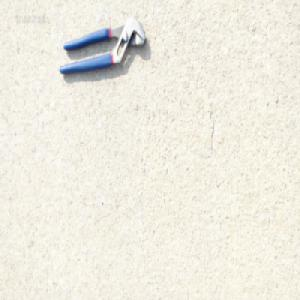Pliers: (58, 15, 147, 76)
